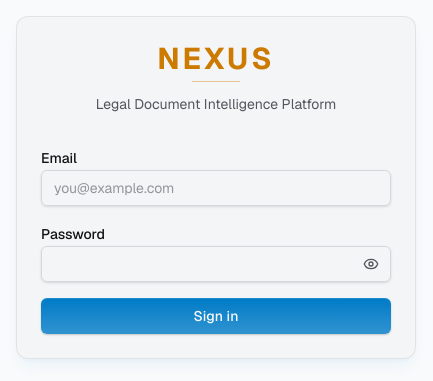
LoginPage › shows 'Signing in...' when submitting
The width and height of the screenshot is (433, 381).
In the field labelled "Email": (216, 188) x1=41 y1=170 x2=391 y2=206, type "test@example.com"
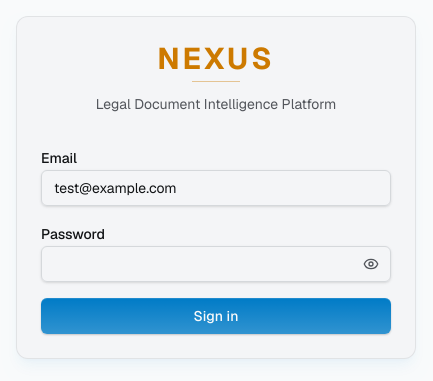
In the password field labelled "Password": (216, 264) x1=41 y1=246 x2=391 y2=282, type "password"
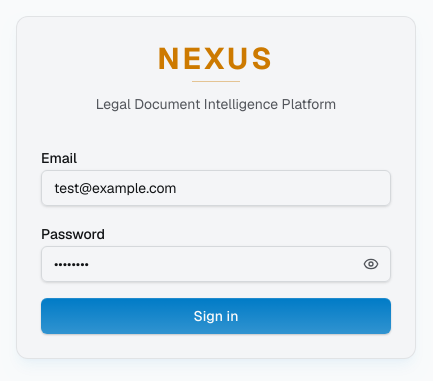
Click the button "Sign in": (216, 316) x1=41 y1=298 x2=391 y2=334
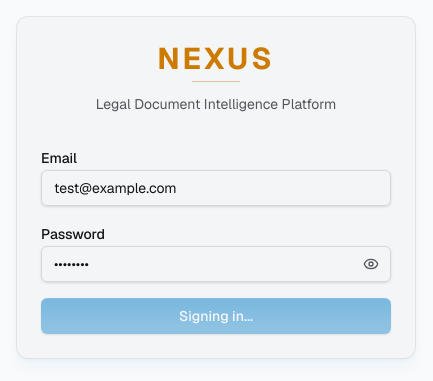
Now the button "Signing in..." is shown, box x1=41 y1=298 x2=391 y2=334
